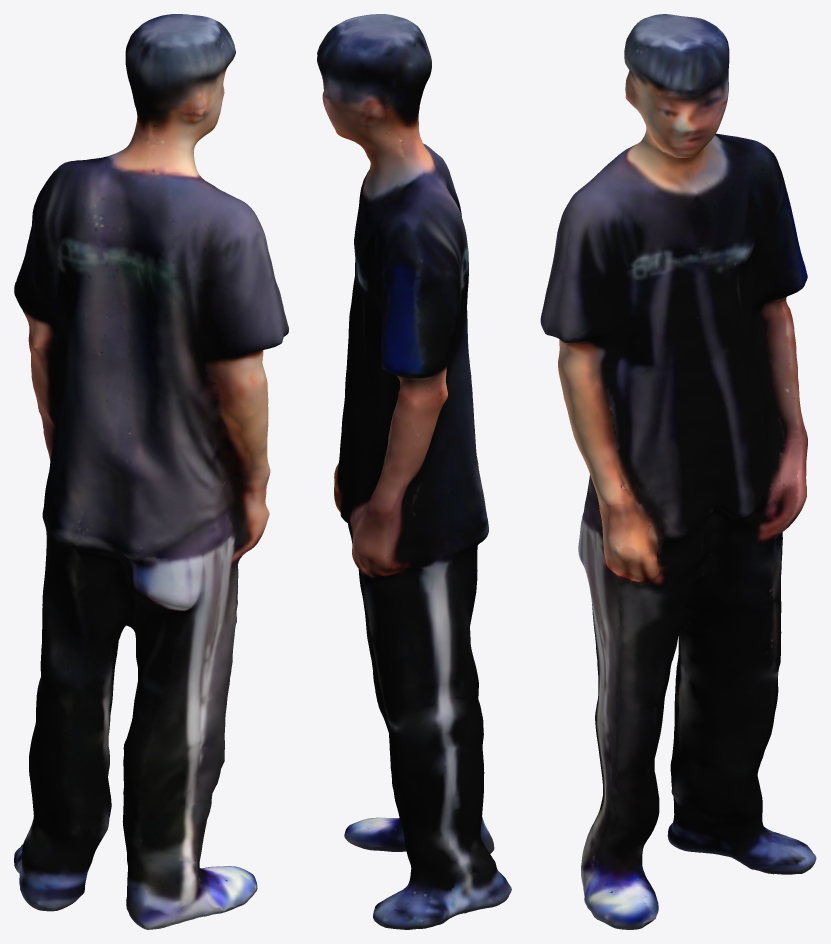
Rendered from Mymodel.fbx.
The picture shows the model from 3 angles, left to right: view 1: azimuth 30°, elevation 25°; view 2: azimuth 150°, elevation 25°; view 3: azimuth 270°, elevation 25°; orthographic projection. The views are drawn at different scales.
Visible parts, largest first — view 1: geometry_0; view 2: geometry_0; view 3: geometry_0.
Boxes of the visible parts, x1,y1,x2,y2 form: geometry_0: (14, 14, 288, 929); geometry_0: (317, 14, 511, 929); geometry_0: (540, 14, 816, 929).
Bounding box in the file's own units: 0.2537 × 1.02 × 0.289.
1 material, 1 textured.
